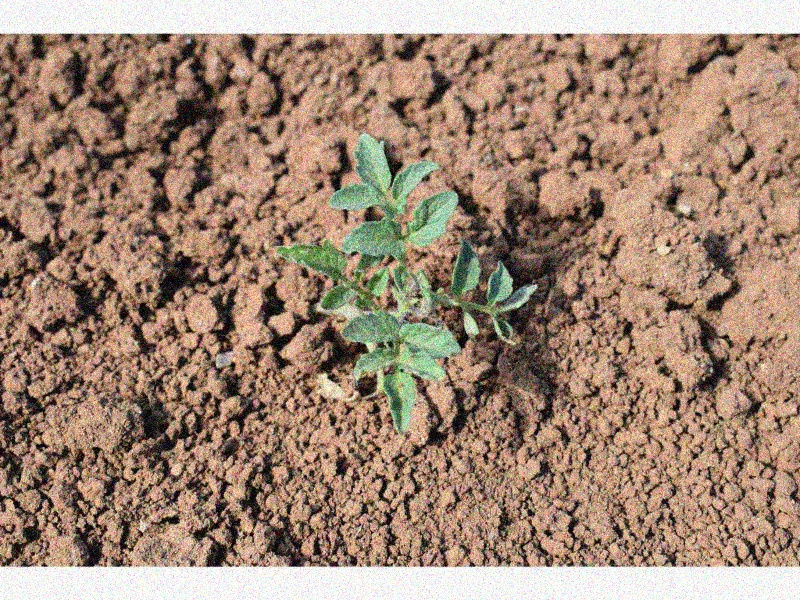tomato: (277, 133, 537, 432)
